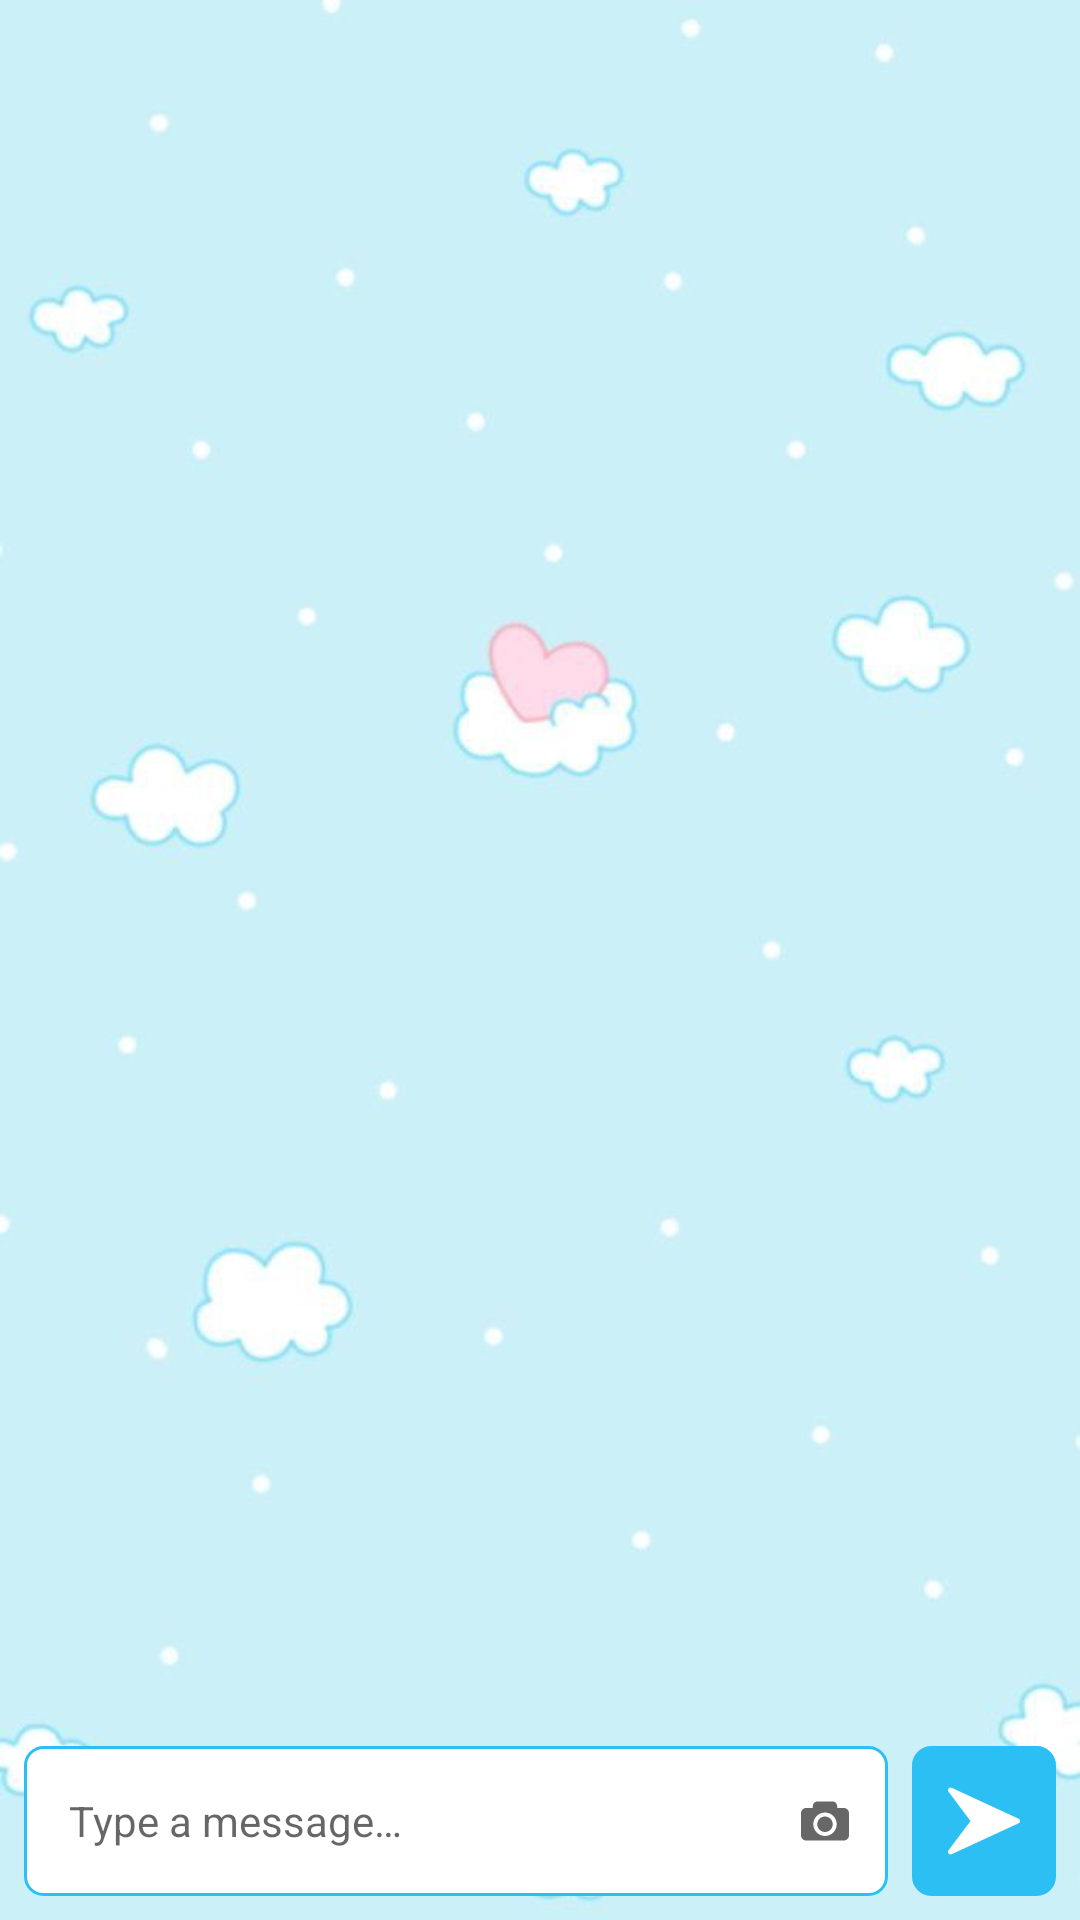

Where to tap for icons on this 1080 x 1920 app screen, as (x,y):
camera: (825,1821)
